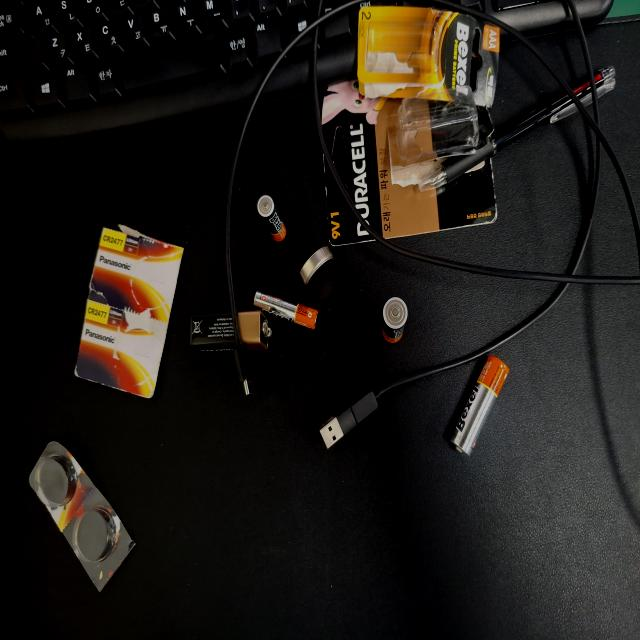9V: (232, 491, 265, 603)
AA: (264, 175, 342, 256), (223, 309, 258, 346)
AAA: (218, 430, 248, 510), (146, 470, 182, 512)
COIN: (184, 409, 216, 450)
